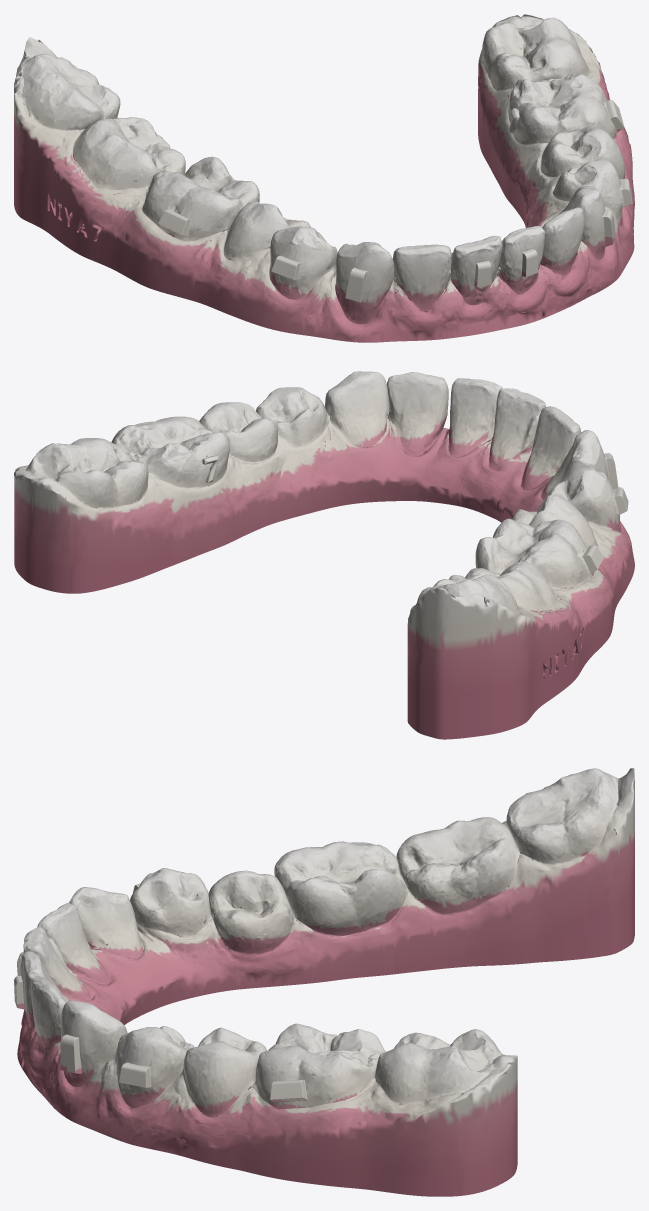
Rendered from Niya Priority Lower jaw - 07 - Model.glb.
3 views of the same model, one above another, from view 1: azimuth 30°, elevation 25°; view 2: azimuth 150°, elevation 25°; view 3: azimuth 270°, elevation 25° (orthographic). The views are drawn at different scales.
Visible parts, largest first — view 1: Niya Priority Lower jaw - 07 - Model; view 2: Niya Priority Lower jaw - 07 - Model; view 3: Niya Priority Lower jaw - 07 - Model.
Part boxes in pixels (x1,y1,x2,y2): Niya Priority Lower jaw - 07 - Model: (14, 14, 634, 342); Niya Priority Lower jaw - 07 - Model: (14, 371, 634, 739); Niya Priority Lower jaw - 07 - Model: (14, 768, 634, 1196).
Size of the model in its own units: 62.72 by 16.53 by 56.86.
